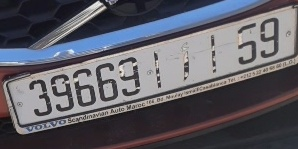3: (26, 80, 52, 119)
5: (233, 21, 262, 67)
6: (73, 65, 94, 109), (94, 62, 117, 102)
9: (117, 53, 140, 100), (259, 15, 283, 60), (51, 73, 76, 114)
a: (177, 41, 196, 83)
